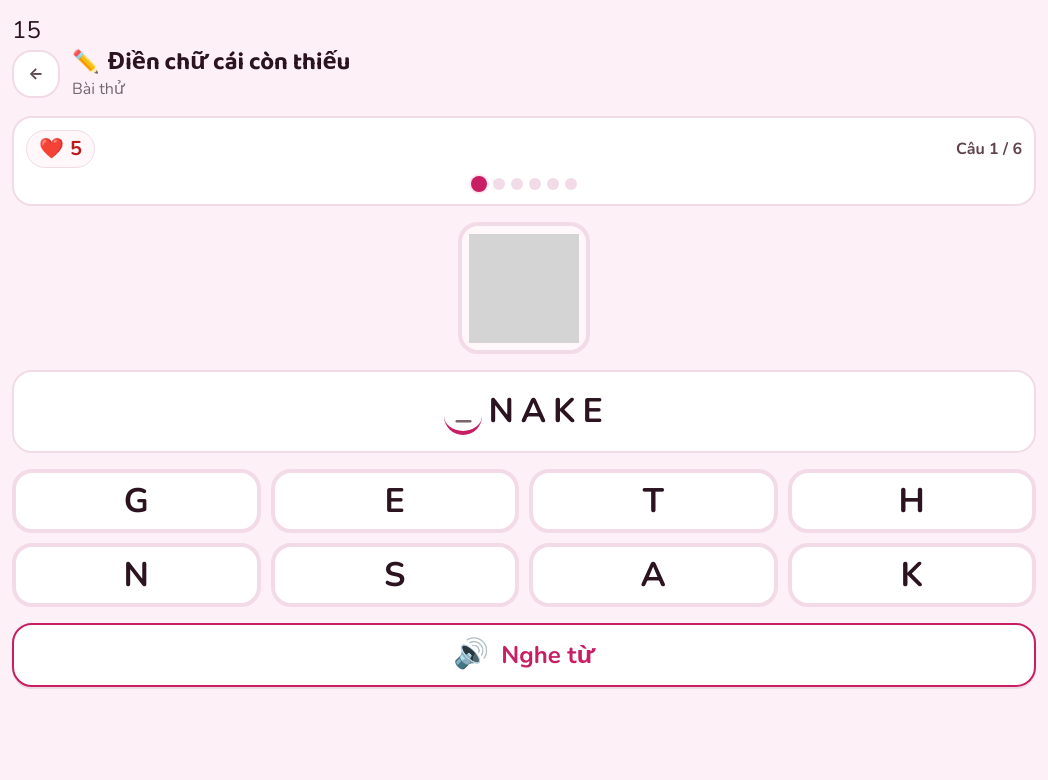
Test case: MissingLetterGame — chơi thật › chạm đúng chữ còn thiếu ⇒ điền xong và sang câu 2
Click the button named "chữ s" at (395, 575), box [270,543,519,607]
Wait 1000 ms
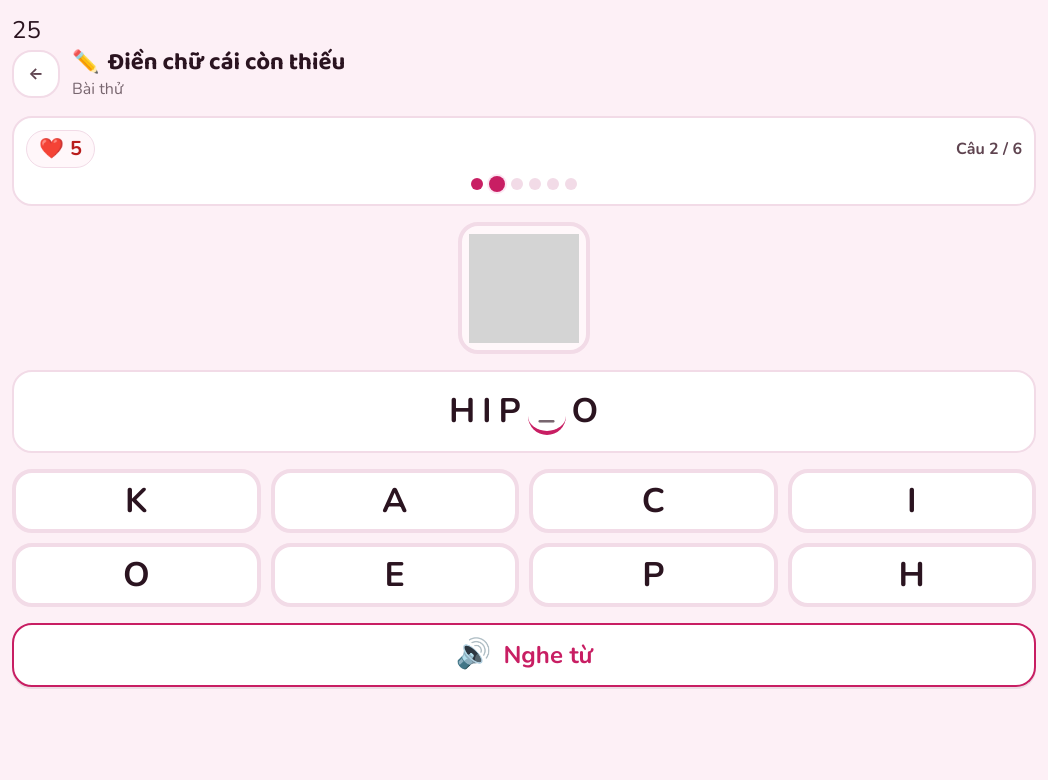
Result: the text "Câu 2 / 6" is shown at [956,138,1022,161]
